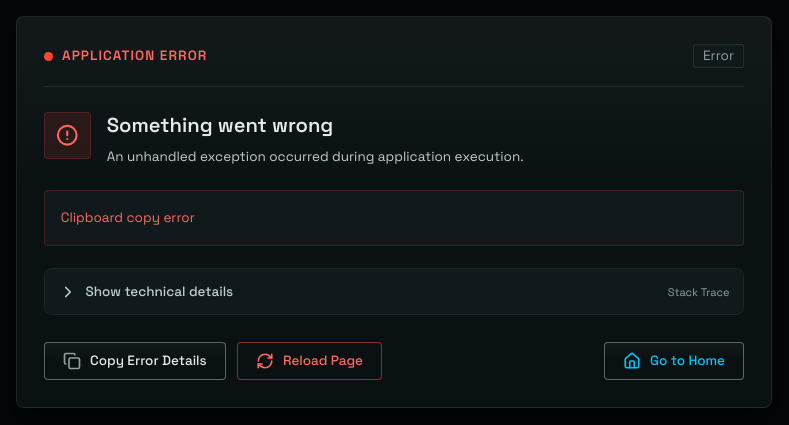
Test case: HUDErrorBoundary & HUDErrorFallback › copies error details to clipboard when Copy Error Details is clicked
The image size is (789, 425).
Click the button "Copy Error Details": (135, 361) [44,342,226,380]
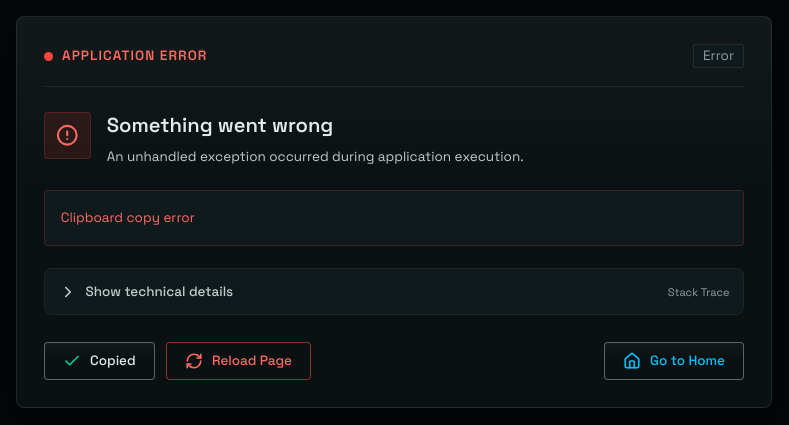
Check: the button "Copied" is shown, box [44,342,155,380]
